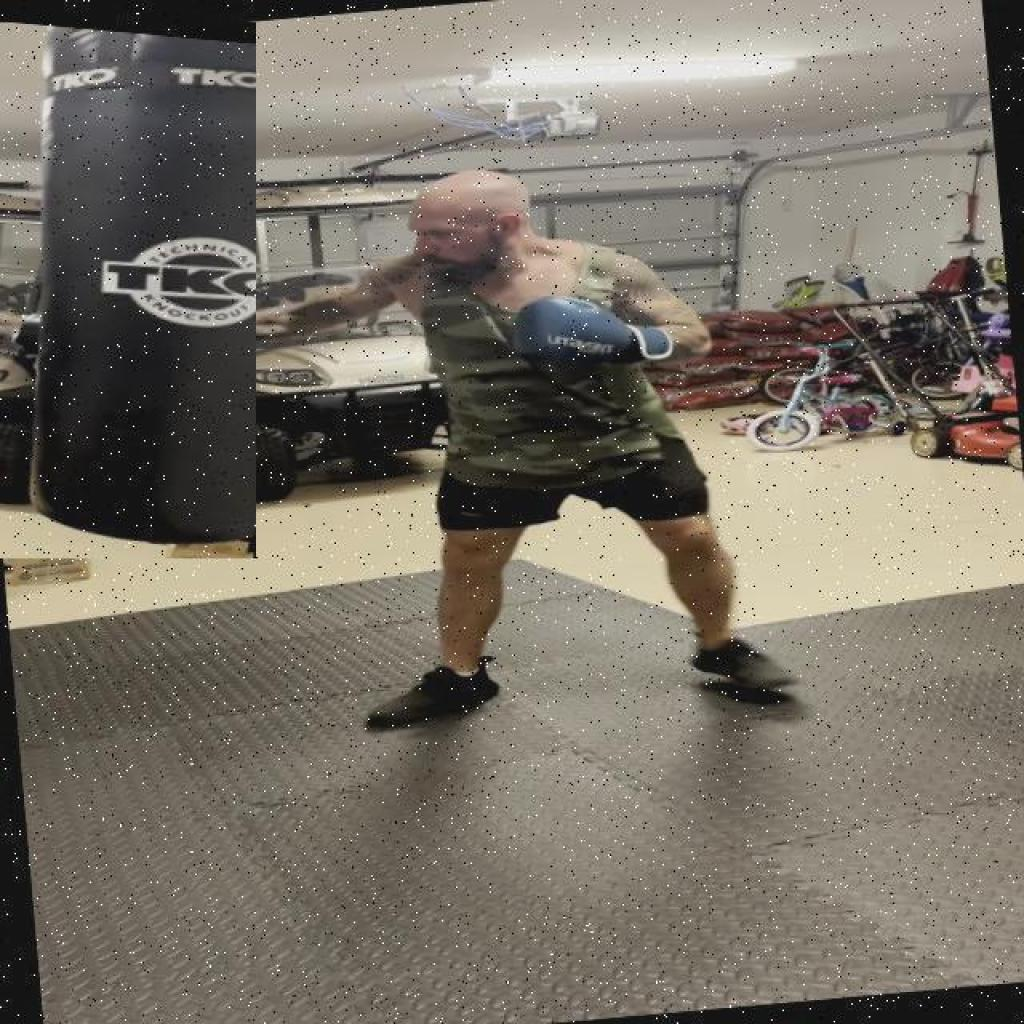bag: (0, 22, 256, 558)
hook: (162, 125, 712, 421)
